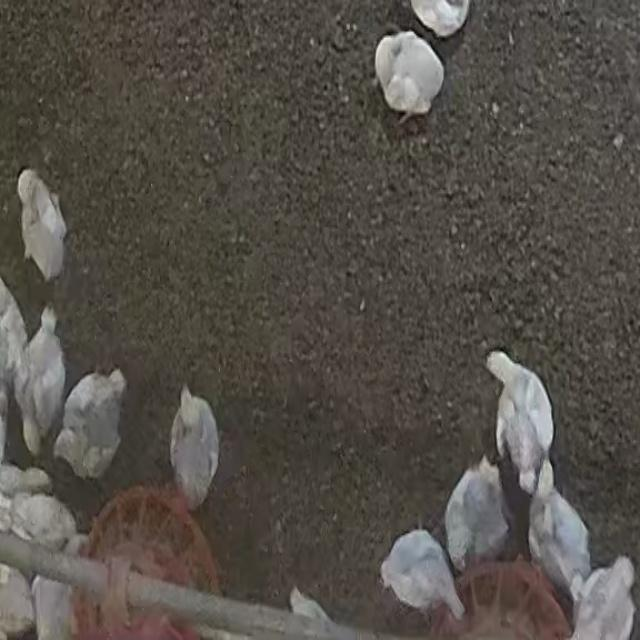chicken: (486, 351, 554, 496), (379, 527, 466, 626), (55, 368, 128, 482), (368, 31, 451, 128), (522, 469, 592, 578), (169, 384, 220, 512), (16, 170, 70, 286), (19, 302, 63, 440), (442, 461, 506, 555)
